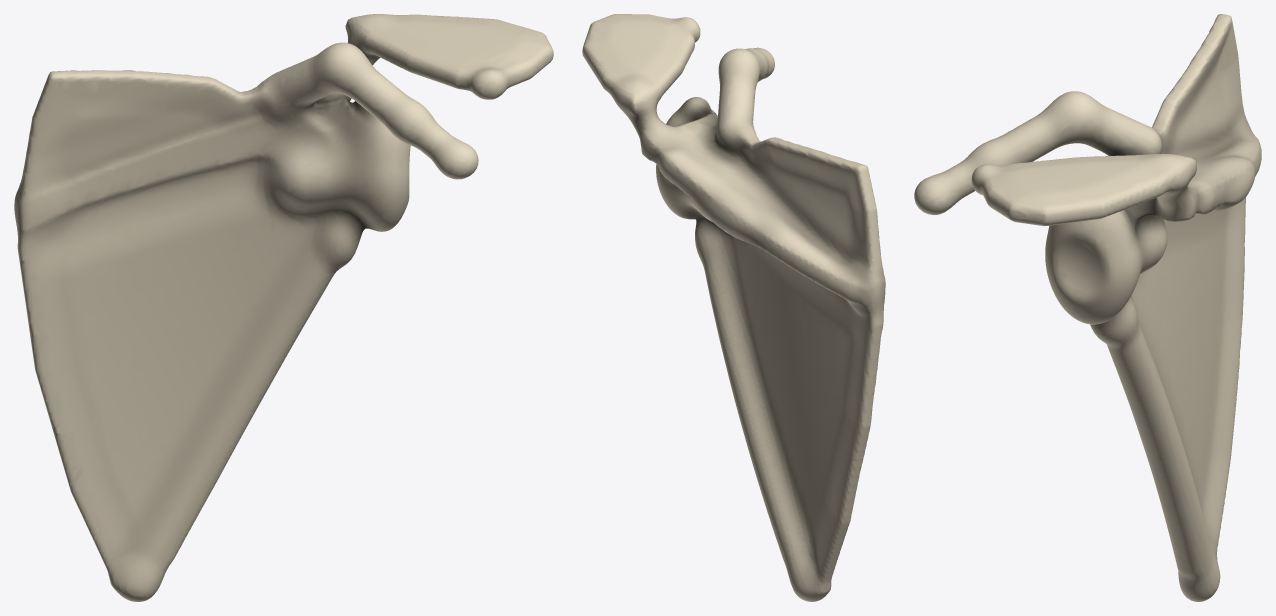
The model's file is esqueleto-escapula.glb.
3 renders of one model, left to right at view 1: azimuth 30°, elevation 25°; view 2: azimuth 150°, elevation 25°; view 3: azimuth 270°, elevation 25°, orthographic. The views are drawn at different scales.
Parts seen in each view (by area): view 1: scapula_L_infraspinous_fossa, scapula_L_supraspinous_fossa, scapula_L_acromion, scapula_L_glenoid, scapula_L_coracoid, scapula_L_spine; view 2: scapula_L_infraspinous_fossa, scapula_L_spine, scapula_L_supraspinous_fossa, scapula_L_acromion, scapula_L_coracoid, scapula_L_glenoid; view 3: scapula_L_infraspinous_fossa, scapula_L_acromion, scapula_L_glenoid, scapula_L_coracoid, scapula_L_supraspinous_fossa, scapula_L_spine.
Boxes of the visible parts, x1,y1,x2,y2 form: scapula_L_infraspinous_fossa: (15,123,364,601); scapula_L_supraspinous_fossa: (16,70,321,217); scapula_L_acromion: (345,14,553,99); scapula_L_glenoid: (267,101,410,231); scapula_L_coracoid: (260,42,478,179); scapula_L_spine: (14,39,380,223); scapula_L_infraspinous_fossa: (695,215,885,601); scapula_L_spine: (618,105,883,312); scapula_L_supraspinous_fossa: (734,127,885,294); scapula_L_acromion: (582,14,700,116); scapula_L_coracoid: (715,47,774,152); scapula_L_glenoid: (656,97,717,221); scapula_L_infraspinous_fossa: (1090,197,1245,601); scapula_L_acromion: (971,153,1196,226); scapula_L_glenoid: (1045,207,1167,324); scapula_L_coracoid: (914,91,1161,215); scapula_L_supraspinous_fossa: (1152,14,1248,155); scapula_L_spine: (1130,121,1261,221).
Bounding box in the file's own units: 0.1403 × 0.1737 × 0.0946.
